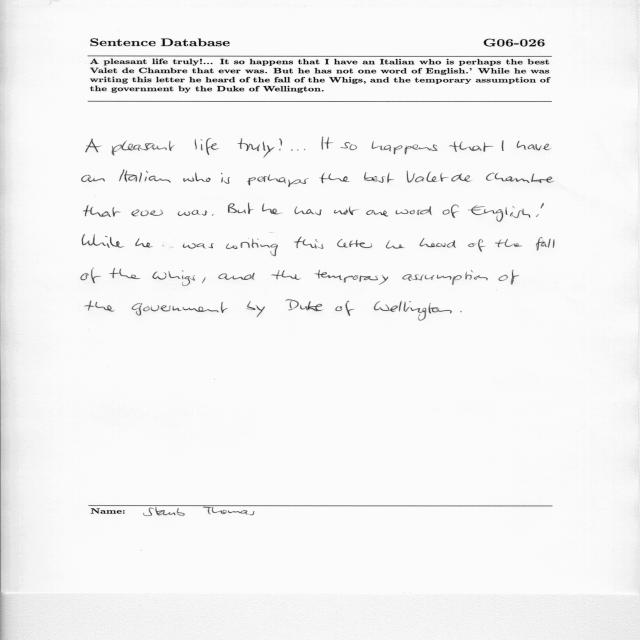word: (374, 301, 452, 321), (402, 270, 488, 285), (316, 270, 389, 285), (468, 205, 531, 222), (132, 303, 219, 315), (112, 141, 174, 156), (226, 239, 278, 256), (372, 142, 437, 155), (247, 174, 309, 187), (238, 138, 274, 158), (152, 270, 195, 286), (486, 173, 554, 183), (119, 170, 171, 183), (82, 234, 124, 248), (407, 171, 449, 183), (450, 141, 494, 152), (83, 205, 121, 217), (195, 138, 219, 155), (286, 300, 323, 311), (419, 238, 456, 248), (295, 237, 324, 249), (364, 172, 394, 183), (110, 268, 140, 279), (85, 301, 115, 312), (396, 206, 432, 215), (337, 239, 372, 248), (517, 141, 551, 150), (246, 301, 265, 317), (320, 174, 350, 184), (271, 270, 301, 280), (335, 301, 355, 316), (228, 203, 254, 214), (81, 269, 101, 283), (499, 270, 519, 284), (218, 273, 255, 280), (183, 173, 211, 182), (294, 207, 322, 216), (136, 239, 164, 248), (536, 237, 555, 250), (442, 204, 459, 218), (468, 239, 486, 252), (86, 139, 102, 153), (132, 210, 164, 217), (262, 204, 282, 215), (495, 239, 522, 247), (334, 207, 359, 215), (183, 243, 214, 249), (451, 173, 471, 182), (178, 210, 207, 216), (82, 175, 105, 182), (322, 137, 334, 150), (386, 241, 405, 249), (366, 210, 389, 216), (340, 142, 357, 150), (221, 173, 230, 184), (221, 302, 228, 313), (279, 139, 282, 151), (291, 149, 305, 151), (202, 277, 206, 283), (502, 140, 504, 151), (541, 203, 544, 208), (536, 214, 539, 217), (212, 214, 214, 215), (460, 311, 462, 312)
